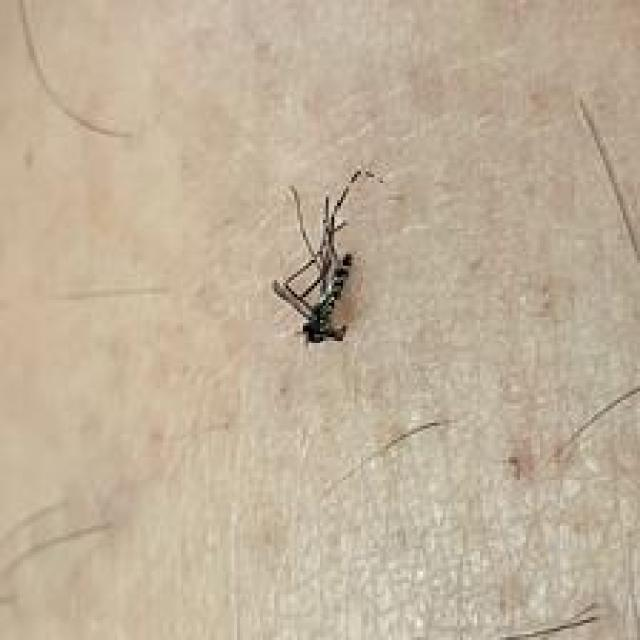Aedes albopictus: (270, 166, 379, 346)
